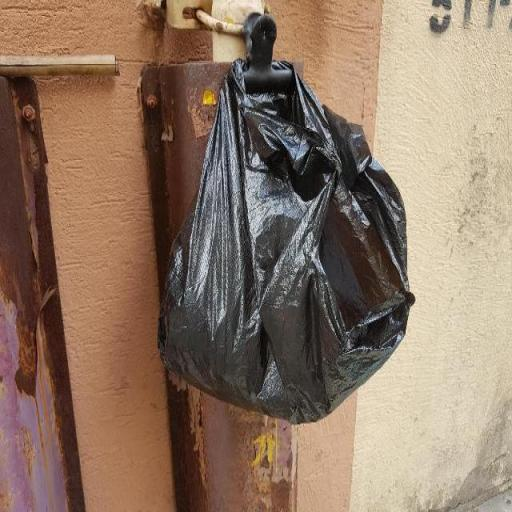plastic-bag: (158, 60, 420, 426)
